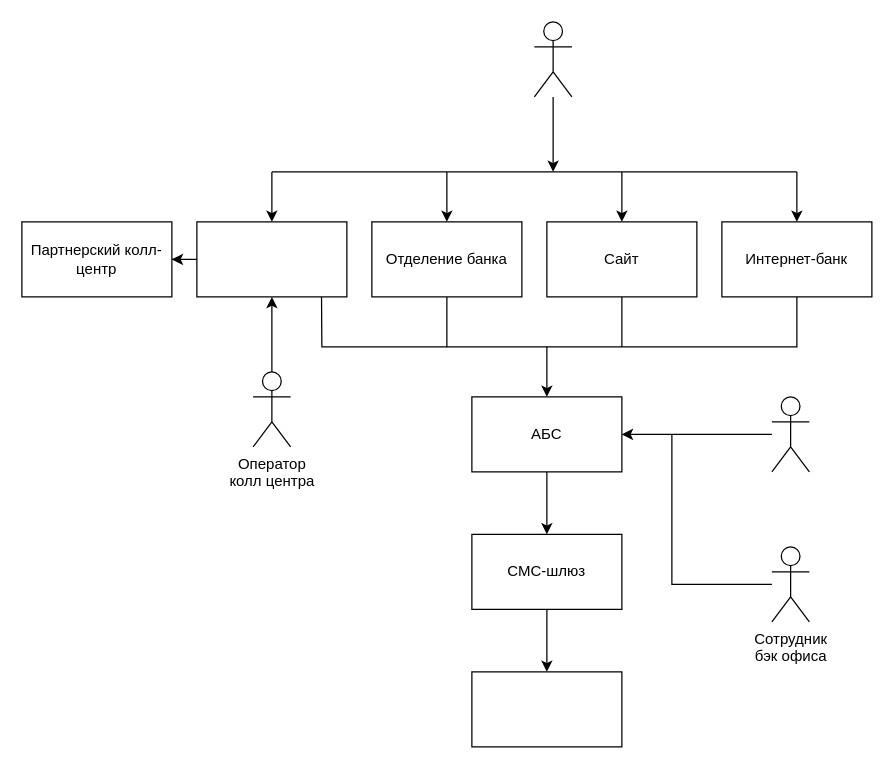
Image size: 894x769. Some labels were removed from this diagram. Each missing label, with the centre of its shape:
Клиент: point (552, 59)
Колл-центр: point (271, 259)
Сотрудник фронт офиса: point (790, 434)
Телеком оператор: point (546, 709)
